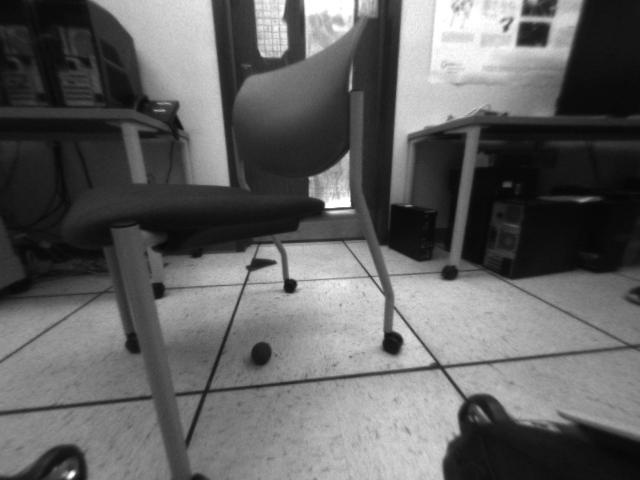dogtoy: (242, 334, 279, 371)
